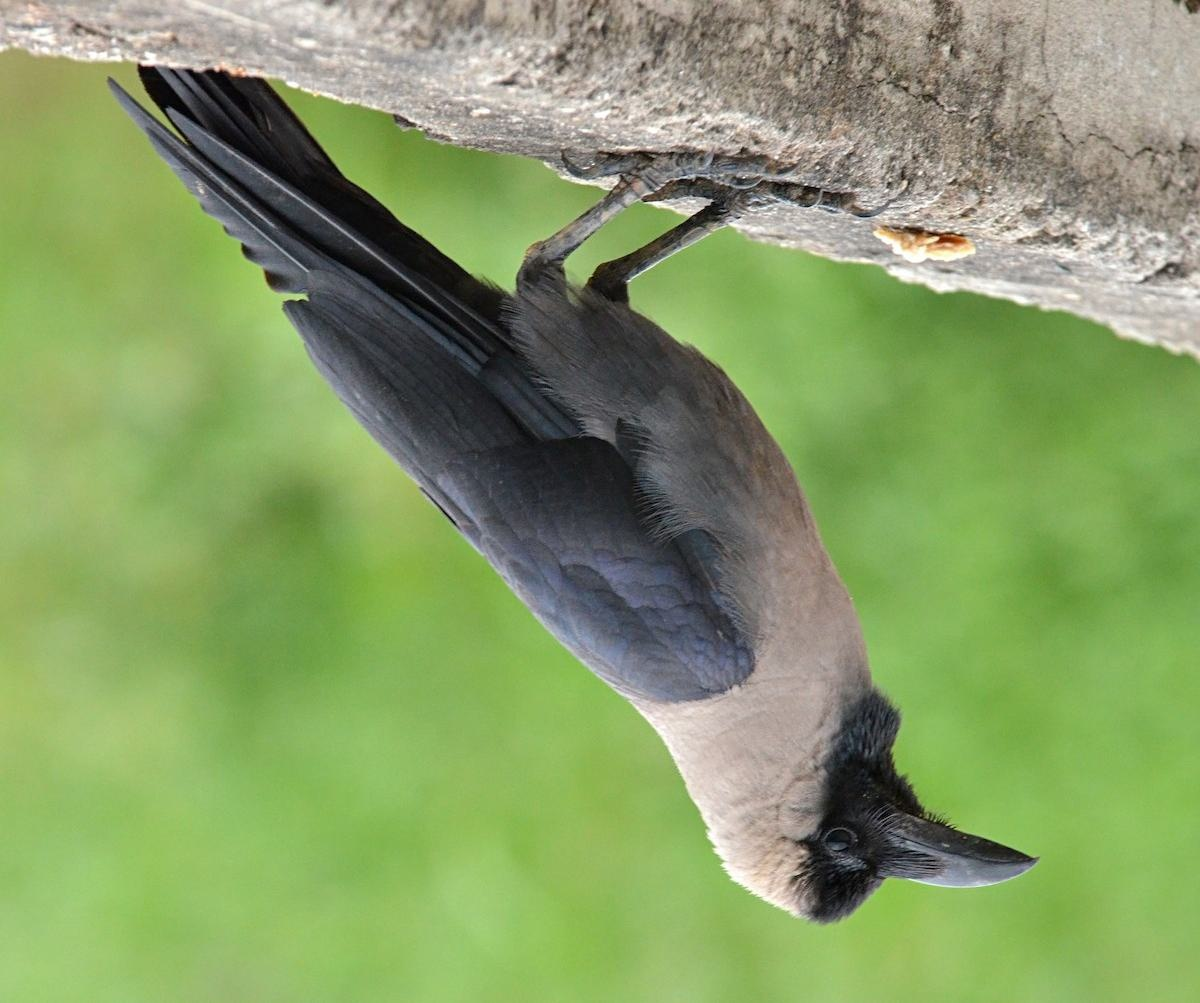crow: (90, 39, 1062, 941)
